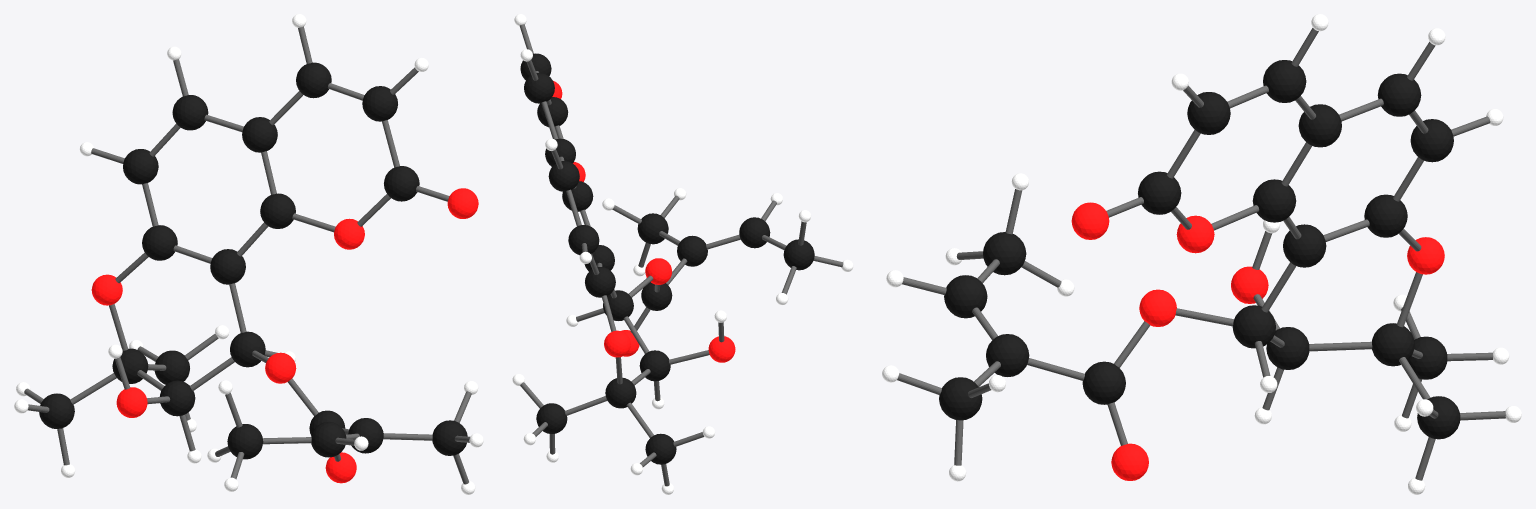
File: molecule.glb
3 views of the same model, side by side, from view 1: azimuth 30°, elevation 25°; view 2: azimuth 150°, elevation 25°; view 3: azimuth 270°, elevation 25° (orthographic). The views are drawn at different scales.
Visible parts, largest first — view 1: geometry_8, geometry_12, geometry_18, geometry_10, geometry_14, geometry_13, geometry_9, geometry_15, geometry_11, geometry_0, geometry_22, geometry_1 (+12 smaller); view 2: geometry_2, geometry_1, geometry_20, geometry_0, geometry_13, geometry_11, geometry_3, geometry_9, geometry_23, geometry_21, geometry_22, geometry_10 (+10 smaller); view 3: geometry_4, geometry_9, geometry_11, geometry_15, geometry_18, geometry_1, geometry_13, geometry_20, geometry_7, geometry_2, geometry_12, geometry_10 (+13 smaller).
Part boxes in pixels (<box>): geometry_8: <box>210,249,245,284</box>; geometry_12: <box>242,117,277,152</box>; geometry_18: <box>260,193,295,228</box>; geometry_10: <box>123,149,158,184</box>; geometry_14: <box>362,86,397,121</box>; geometry_13: <box>296,62,331,98</box>; geometry_9: <box>142,225,177,260</box>; geometry_15: <box>384,166,419,201</box>; geometry_11: <box>172,95,208,130</box>; geometry_0: <box>227,424,263,459</box>; geometry_22: <box>39,393,74,428</box>; geometry_1: <box>311,422,346,457</box>; geometry_2: <box>677,235,707,266</box>; geometry_1: <box>739,217,770,248</box>; geometry_20: <box>605,378,636,408</box>; geometry_0: <box>783,239,814,270</box>; geometry_13: <box>524,72,554,103</box>; geometry_11: <box>548,161,579,191</box>; geometry_3: <box>637,213,668,244</box>; geometry_9: <box>585,267,615,297</box>; geometry_23: <box>639,350,670,381</box>; geometry_21: <box>536,403,567,433</box>; geometry_22: <box>645,433,676,464</box>; geometry_10: <box>568,225,599,255</box>; geometry_4: <box>1082,361,1125,404</box>; geometry_9: <box>1364,194,1407,237</box>; geometry_11: <box>1377,73,1421,116</box>; geometry_15: <box>1138,171,1181,214</box>; geometry_18: <box>1252,179,1296,222</box>; geometry_1: <box>944,275,987,318</box>; geometry_13: <box>1263,60,1306,102</box>; geometry_20: <box>1372,323,1414,366</box>; geometry_7: <box>1232,305,1275,348</box>; geometry_2: <box>986,334,1029,376</box>; geometry_12: <box>1298,104,1341,147</box>; geometry_10: <box>1410,119,1453,162</box>.
Size of the model in its own units: 0.1871 by 0.2362 by 0.257.
